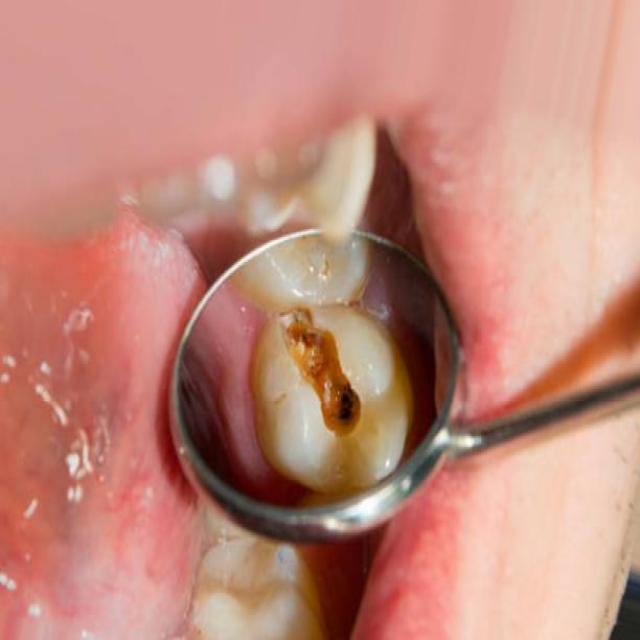caries: (266, 281, 380, 462)
